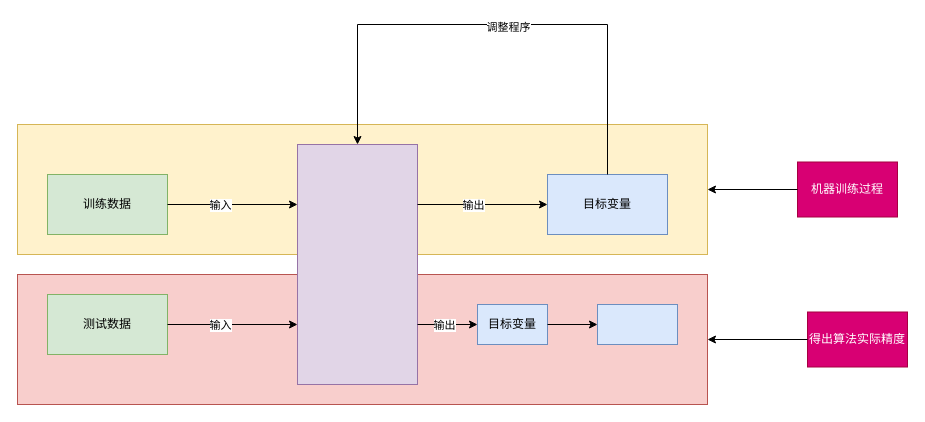
Image size: 925x422. Some labels were removed from this diagram. Here are the shapes that lost their labels. From the top down, the centre of each, then its label:
[357,264]: 程序 算法
[637,324]: 实际样本类别
